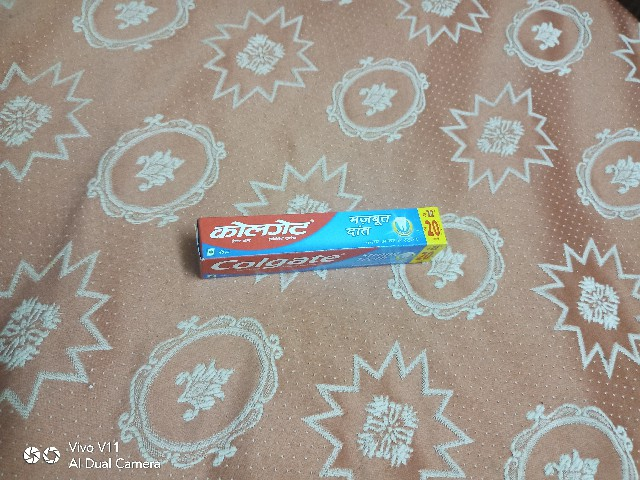colgatetoothpaste small: (187, 205, 486, 289)
